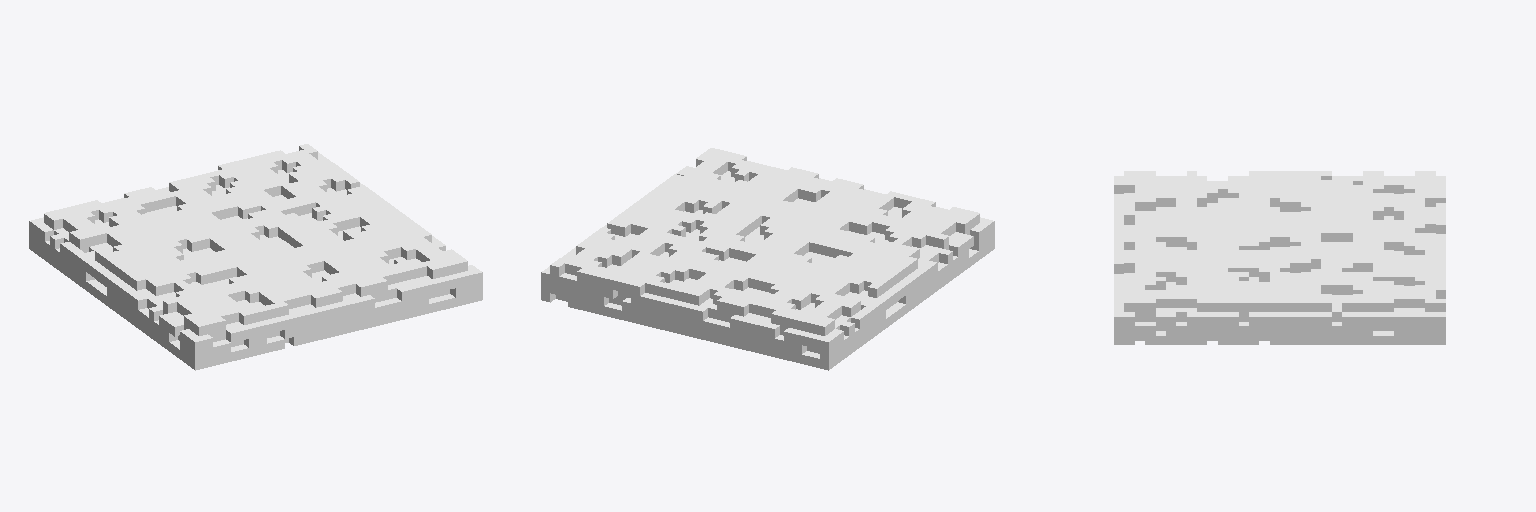
File: dirtUnderWaterTile.obj
The picture shows the model from 3 angles: view 1: azimuth 30°, elevation 25°; view 2: azimuth 150°, elevation 25°; view 3: azimuth 270°, elevation 25°; orthographic projection.
Parts seen in each view (by area): view 1: object 1; view 2: object 1; view 3: object 1.
Part boxes in pixels (left/top/right/bottom): object 1: left=29, top=144, right=482, bottom=370; object 1: left=541, top=148, right=994, bottom=370; object 1: left=1114, top=171, right=1445, bottom=344.
Bounding box in the file's own units: 3.2 × 0.4 × 3.2.